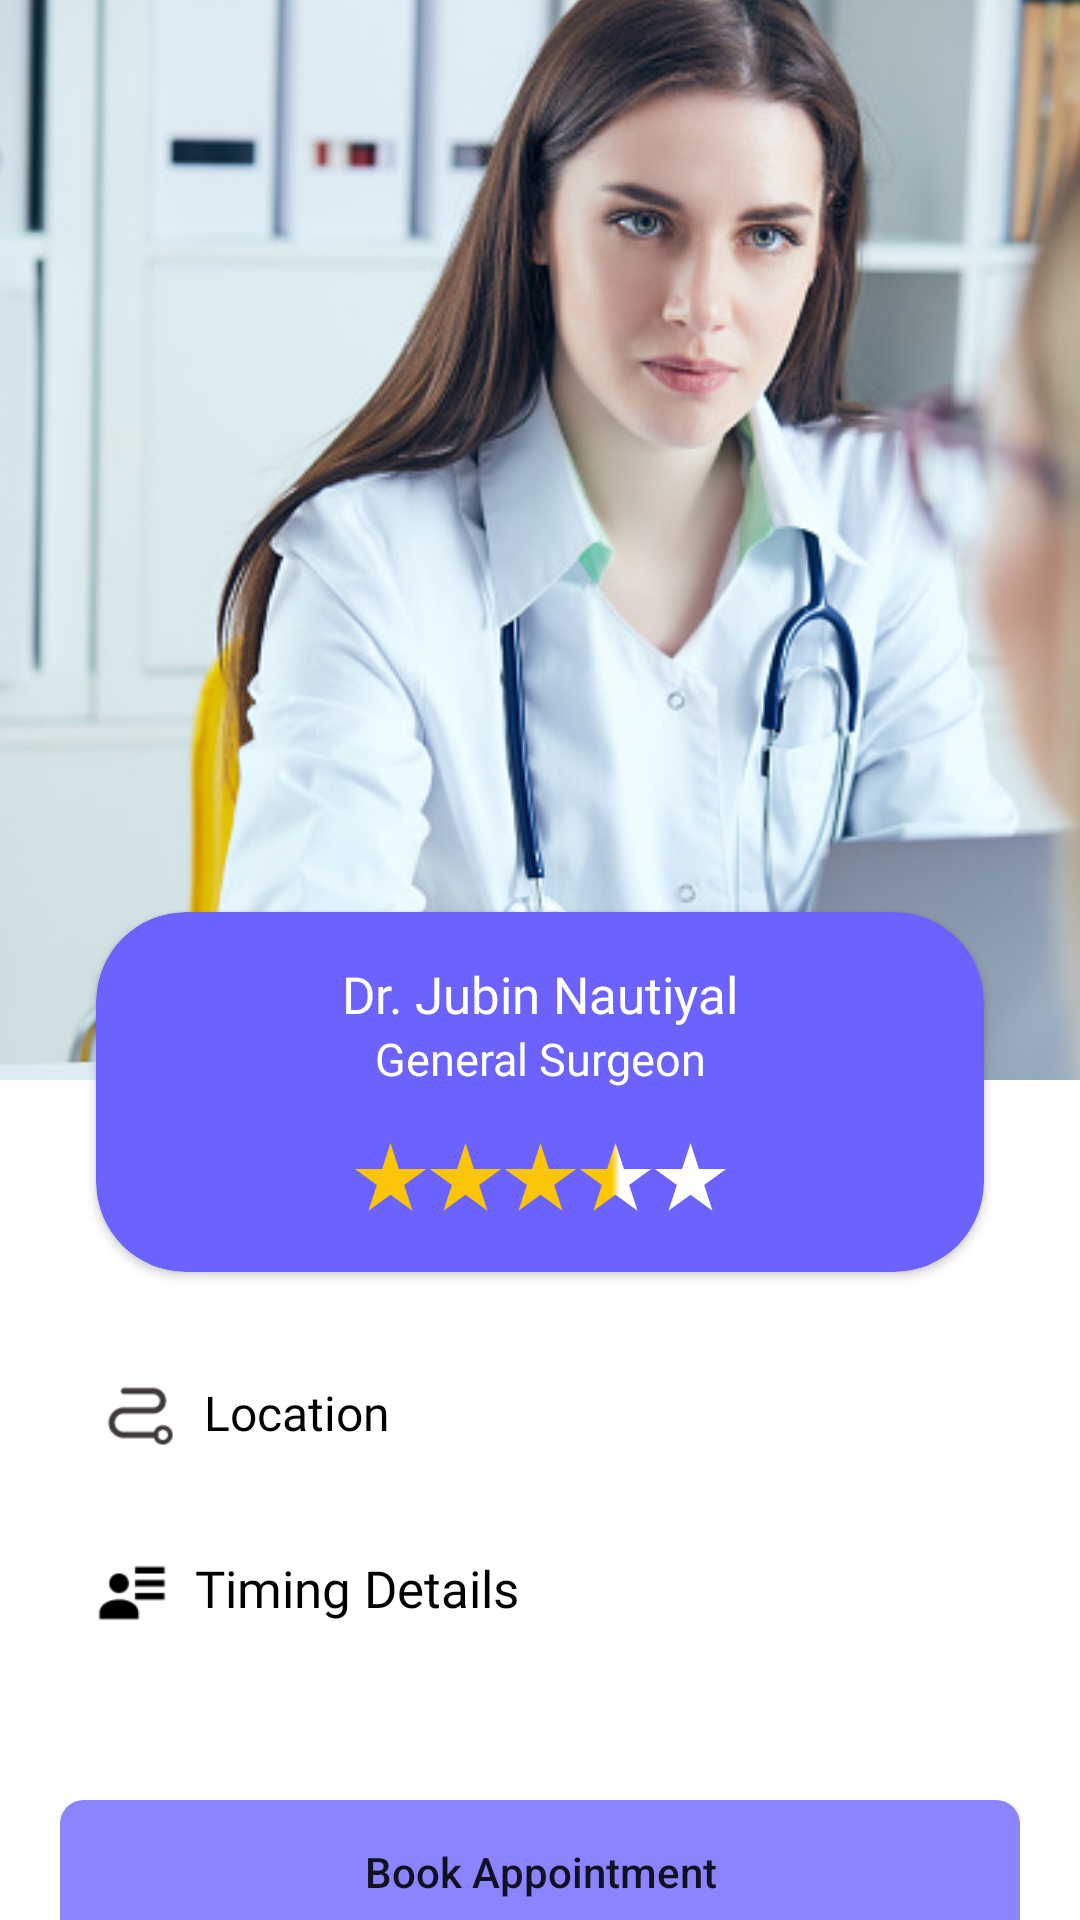

Icons on this 1080px x 1920px Android screen, each with the point to tap as (x,y):
docdeticon: (132,1593)
